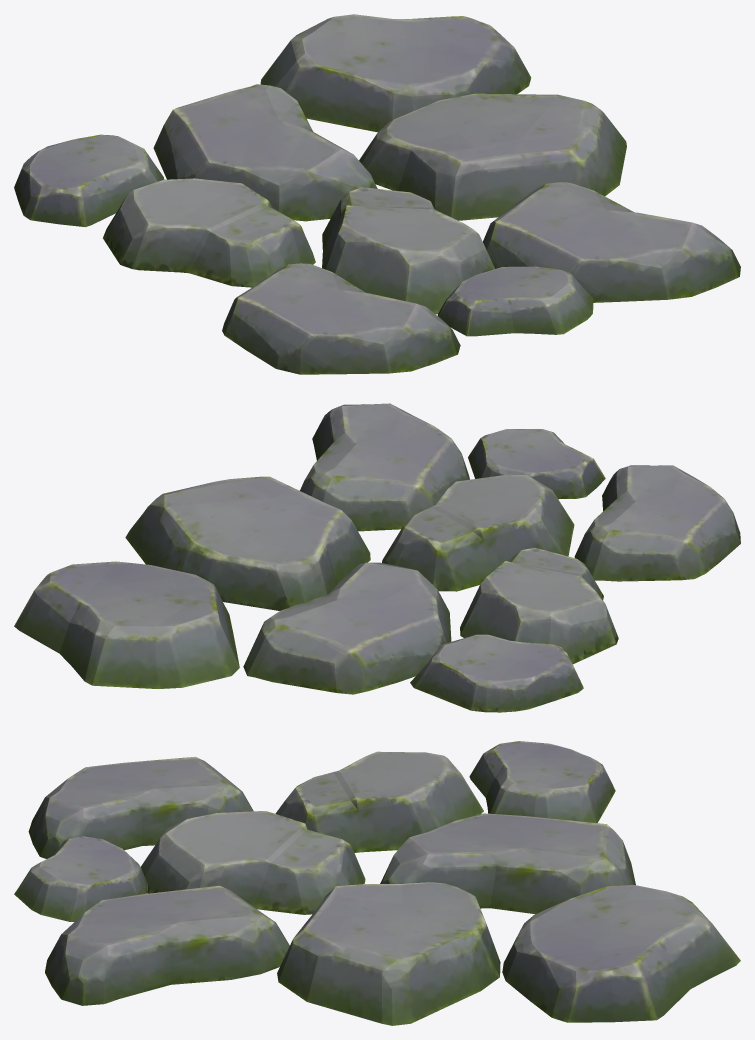
The model's file is rock-path-round-small-gmttpoefkt-transformed.glb.
3 renders of one model, top to bottom at view 1: azimuth 30°, elevation 25°; view 2: azimuth 150°, elevation 25°; view 3: azimuth 270°, elevation 25°, orthographic. The views are drawn at different scales.
Parts seen in each view (by area): view 1: RockPath_Round_Small_2; view 2: RockPath_Round_Small_2; view 3: RockPath_Round_Small_2.
Boxes of the visible parts, <box> form: RockPath_Round_Small_2: <box>14,14,740,374</box>; RockPath_Round_Small_2: <box>14,403,740,712</box>; RockPath_Round_Small_2: <box>14,741,740,1025</box>.
Size of the model in its own units: 1.14 by 0.1047 by 1.35.
1 material, 1 textured.
